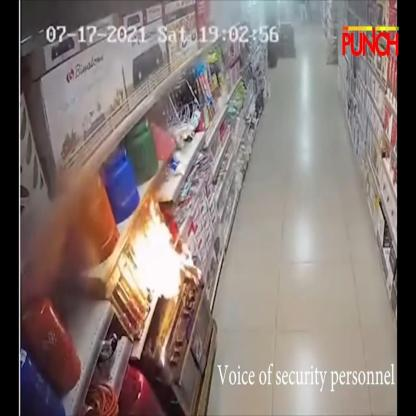fire: (132, 195, 200, 297)
